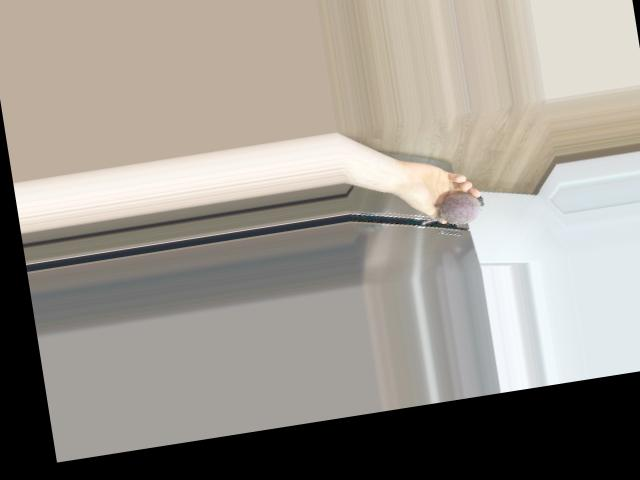beet: (419, 189, 487, 229)
